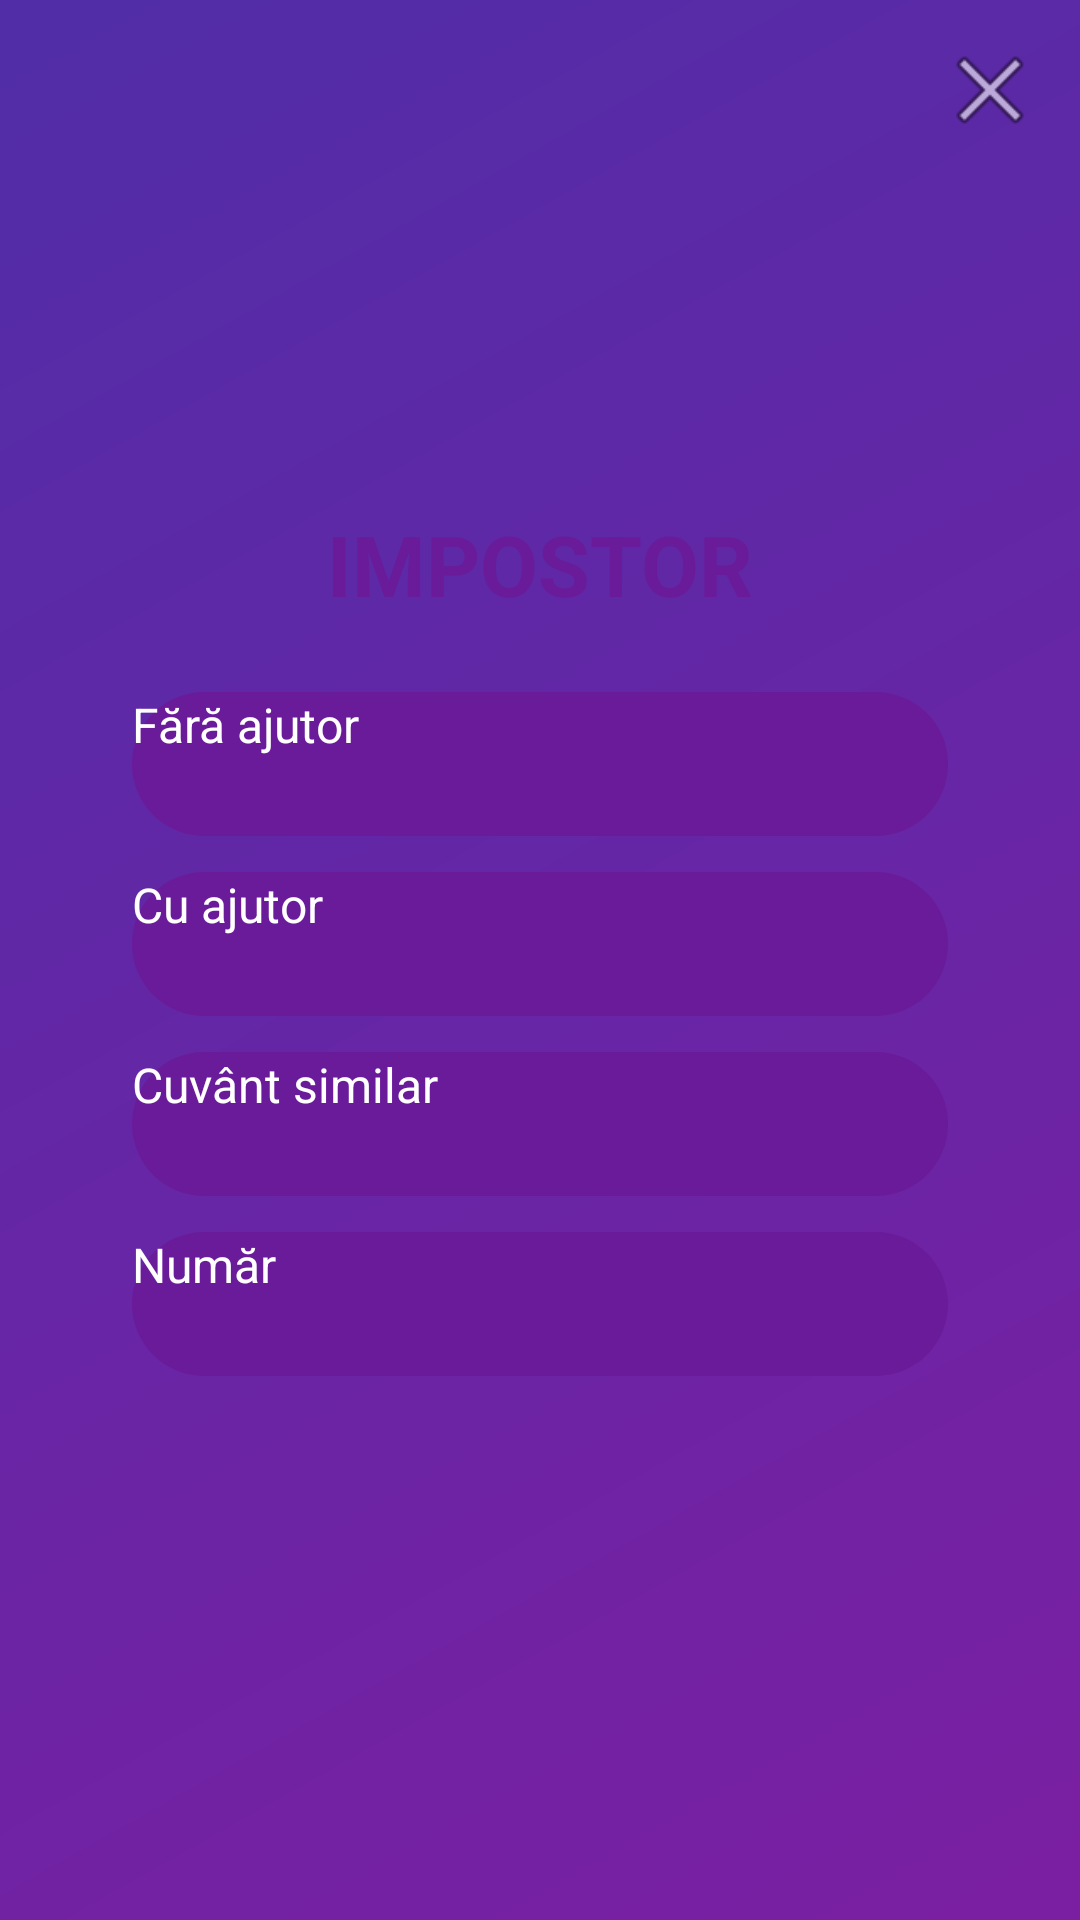

Point at icon controls on the screen. Image size 1080 x 1920, points as (x,y).
close clear cancel: (990,90)
